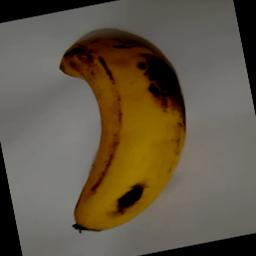Banana Unripe: (40, 24, 206, 240)
